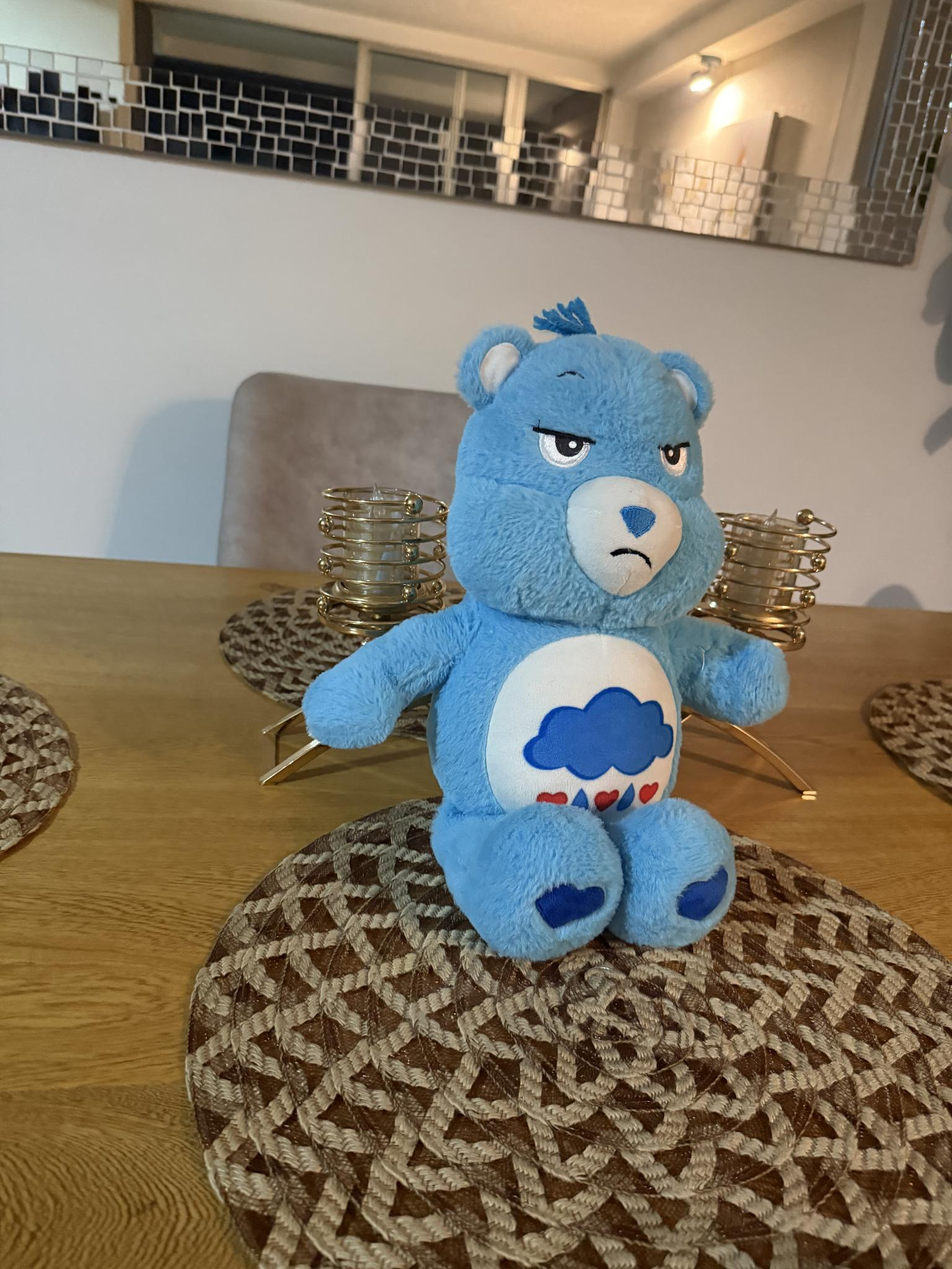peluche_Juan Jose: (296, 313, 793, 964)
